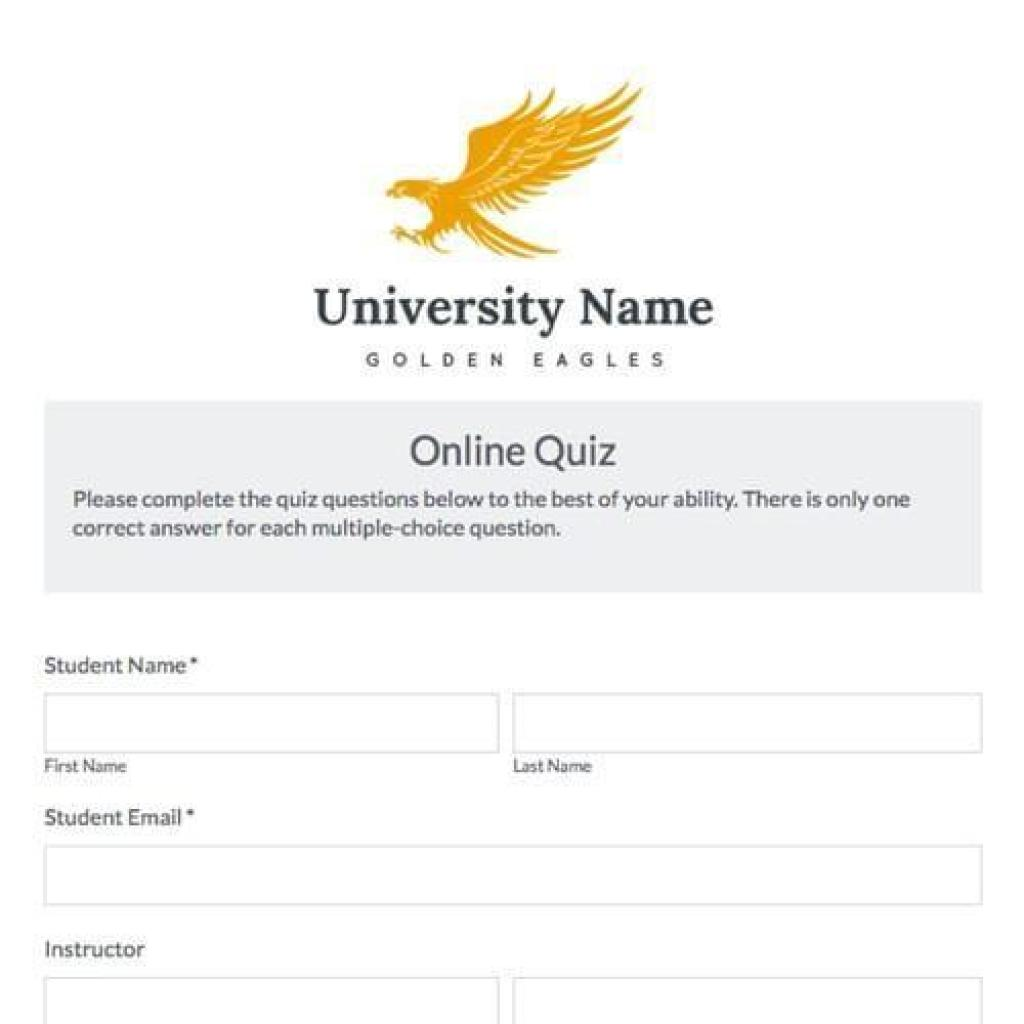input: (45, 844, 985, 903), (510, 688, 985, 754), (41, 688, 502, 754), (41, 973, 498, 1024), (510, 977, 987, 1024)
label: (39, 645, 205, 688), (39, 796, 213, 836), (39, 932, 162, 966), (508, 752, 604, 780), (35, 758, 143, 776)
